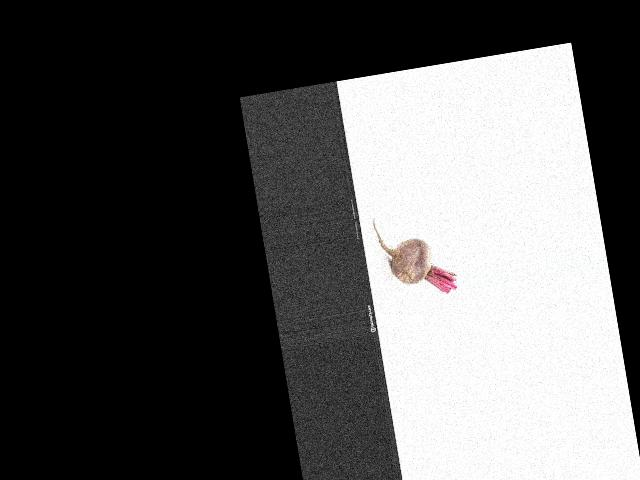beet: (372, 206, 458, 302)
